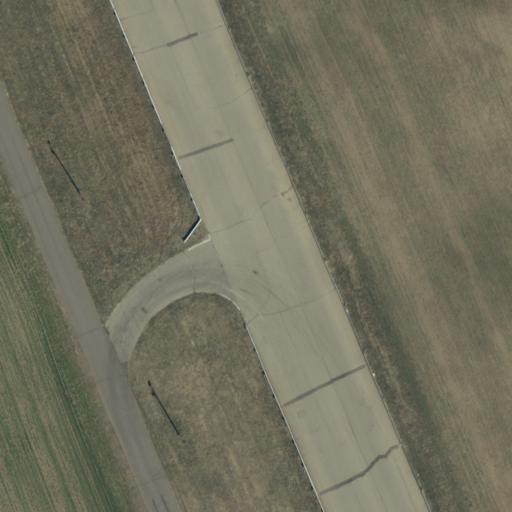DT: (70, 185, 97, 213), (168, 423, 194, 451)
